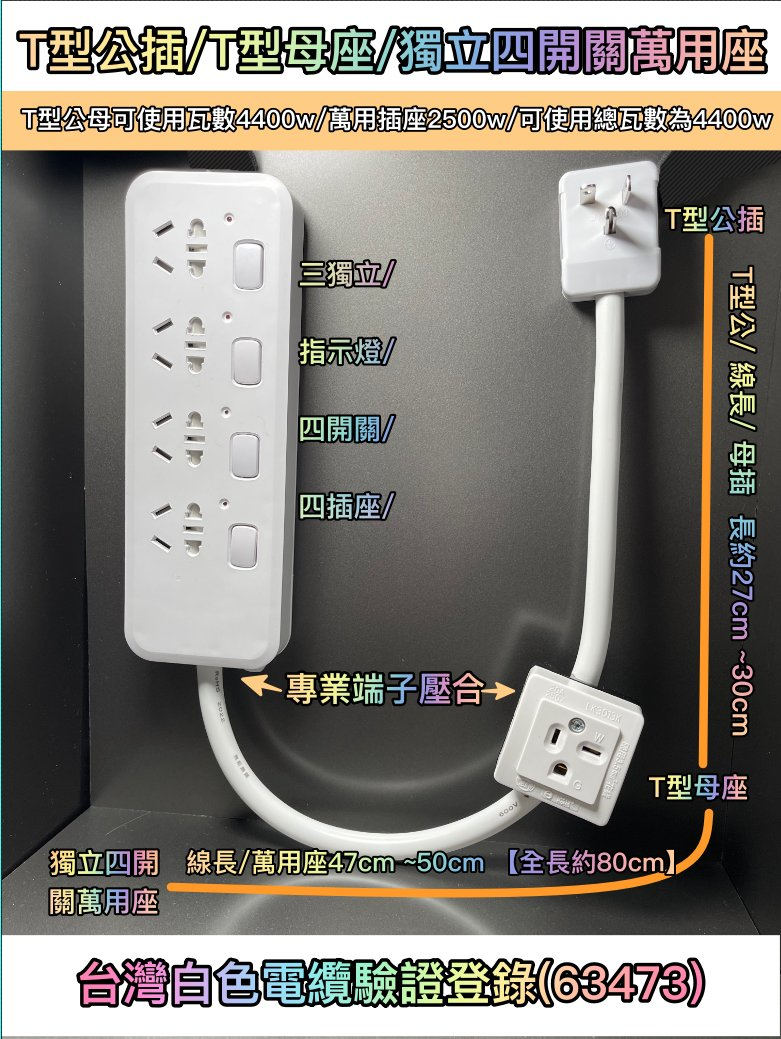socket: (123, 159, 663, 858)
